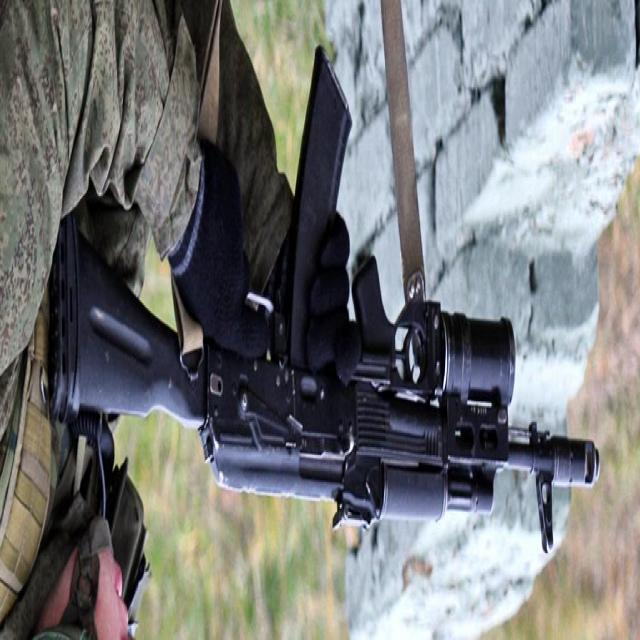weapon: (47, 45, 600, 558)
